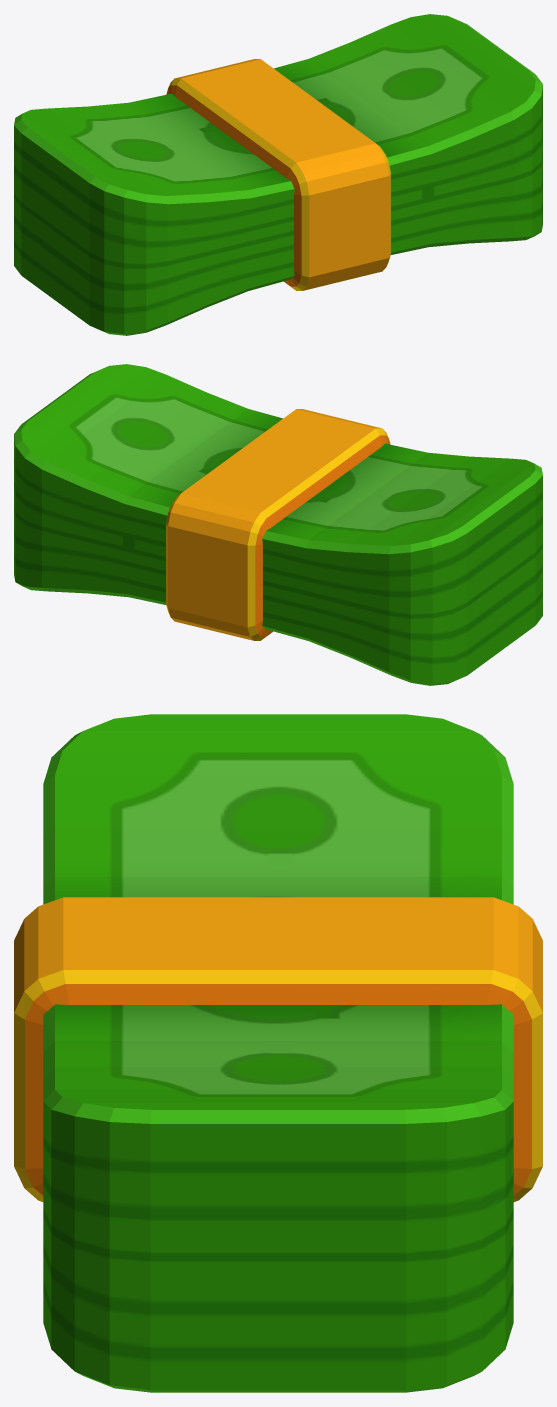
The model's file is cash.FBX.
3 views of the same model, one above another, from view 1: azimuth 30°, elevation 25°; view 2: azimuth 150°, elevation 25°; view 3: azimuth 270°, elevation 25° (orthographic). The views are drawn at different scales.
Size of the model in its own units: 0.9344 by 0.5131 by 0.3028.
1 material, 1 textured.
